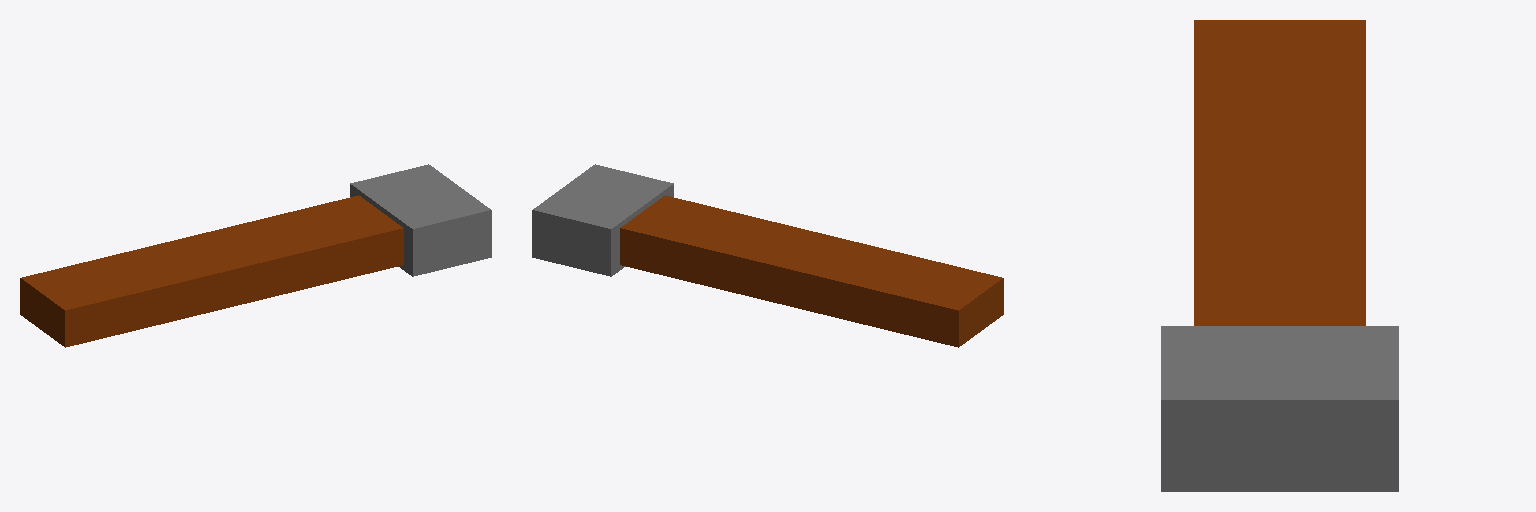
URDF robot description (handle_head):
<?xml version="1.0"?>
<robot name="handle_head">

  <link name="handle_head">
    <!-- Handle -->
    <visual>
              <origin xyz="0 0 0" rpy="0 0 0"/>
        <geometry>
          <box size="0.16060873200164863 0.0367989808754481 0.01681992871807824"/>
        </geometry>
        
      <material name="brown">
        <color rgba="0.55 0.27 0.07 1.0"/>
      </material>
    </visual>
    <collision>
              <origin xyz="0 0 0" rpy="0 0 0"/>
        <geometry>
          <box size="0.16060873200164863 0.0367989808754481 0.01681992871807824"/>
        </geometry>
        
    </collision>

    <!-- Head -->
    <visual>
              <origin xyz="0.09904560484764685 0 0" rpy="0 0 0"/>
        <geometry>
          <box size="0.037482477693645086 0.05131236060553023 0.02162522948004093"/>
        </geometry>
        
      <material name="gray">
        <color rgba="0.5 0.5 0.5 1.0"/>
      </material>
    </visual>
    <collision>
              <origin xyz="0.09904560484764685 0 0" rpy="0 0 0"/>
        <geometry>
          <box size="0.037482477693645086 0.05131236060553023 0.02162522948004093"/>
        </geometry>
        
    </collision>

    <inertial>
      <origin xyz="0.048903797928568624 0 0" rpy="0 0 0"/>
      <mass value="0.09244739715562594"/>
      <inertia ixx="1.817897414381846e-05" iyy="0.0003355232297553598" izz="0.0003479377126325983" ixy="0" ixz="0" iyz="0"/>
    </inertial>
  </link>

</robot>

--- Render facts (derived) ---
The picture shows the robot from 3 angles, left to right: view 1: azimuth 30°, elevation 25°; view 2: azimuth 150°, elevation 25°; view 3: azimuth 270°, elevation 25°; orthographic projection.
Model handle_head with 1 links and 0 joints (none), rooted at handle_head, posed all joints at 0.
Links seen in each view (by area): view 1: handle_head; view 2: handle_head; view 3: handle_head.
Link boxes in pixels (bbox=[...]): handle_head: bbox=[20, 164, 491, 347]; handle_head: bbox=[532, 164, 1003, 347]; handle_head: bbox=[1161, 20, 1398, 491].
Size in the robot's own frame: 0.1981 by 0.0513 by 0.0216 metres.
Geometry: primitives only (box / cylinder / sphere), no mesh files.
